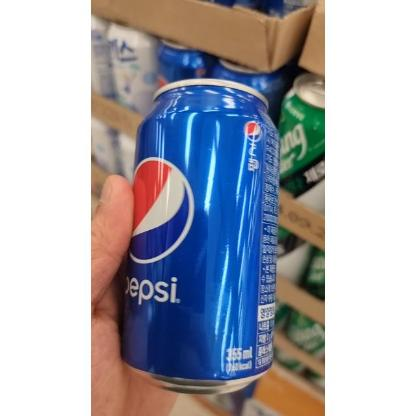Can: (120, 78, 280, 395)
